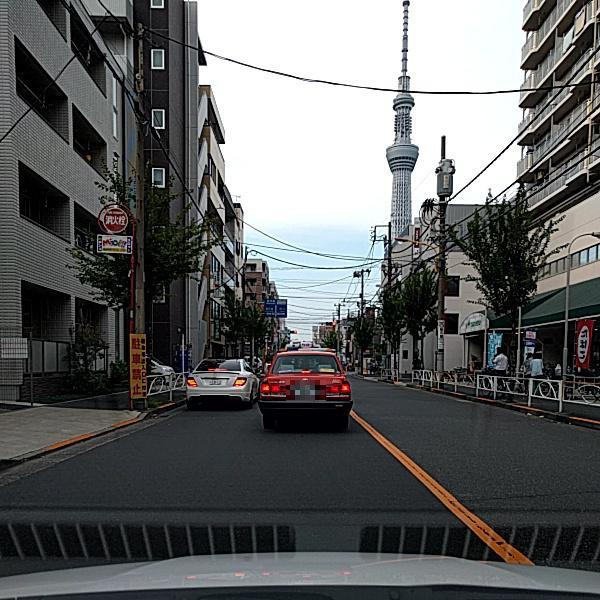D44: (367, 428, 537, 569)
